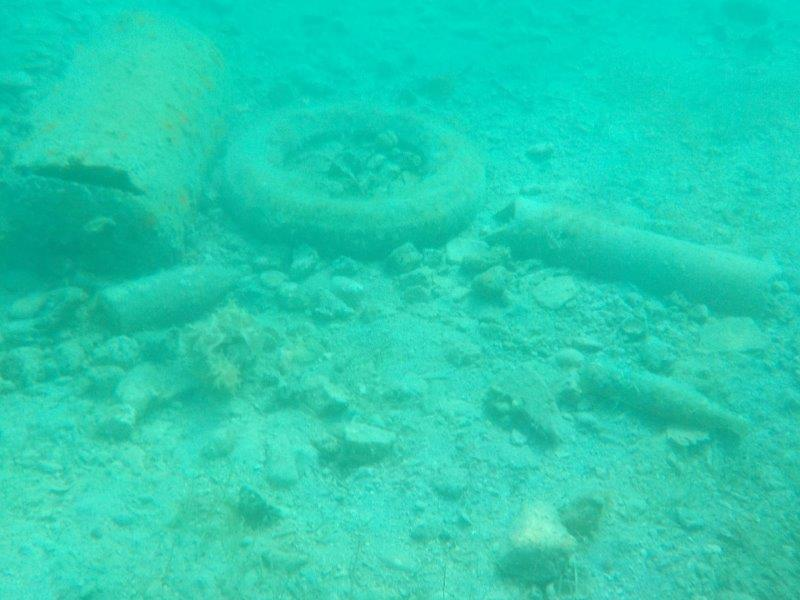bottle: (576, 354, 759, 450), (91, 255, 255, 339)
tire: (215, 93, 495, 264)
